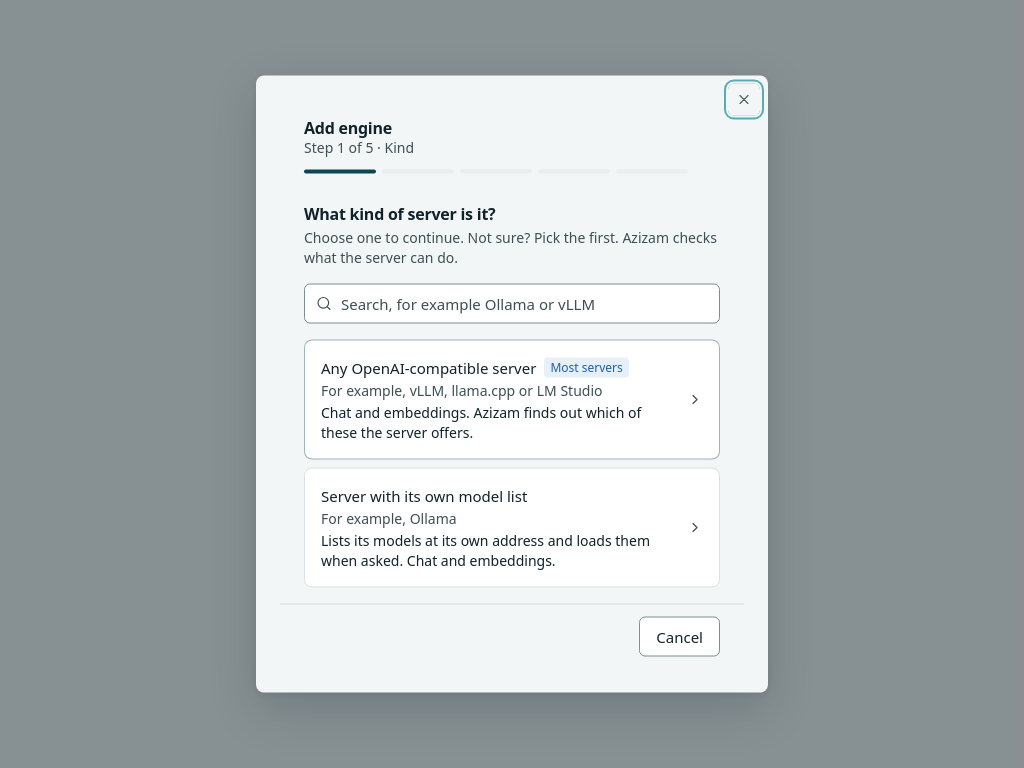
Test: a: kind search › a2: says no kind matches and offers the OpenAI-compatible kind
In the search field named "Search server kinds": (512, 304) [304,284,720,324], type "triton"
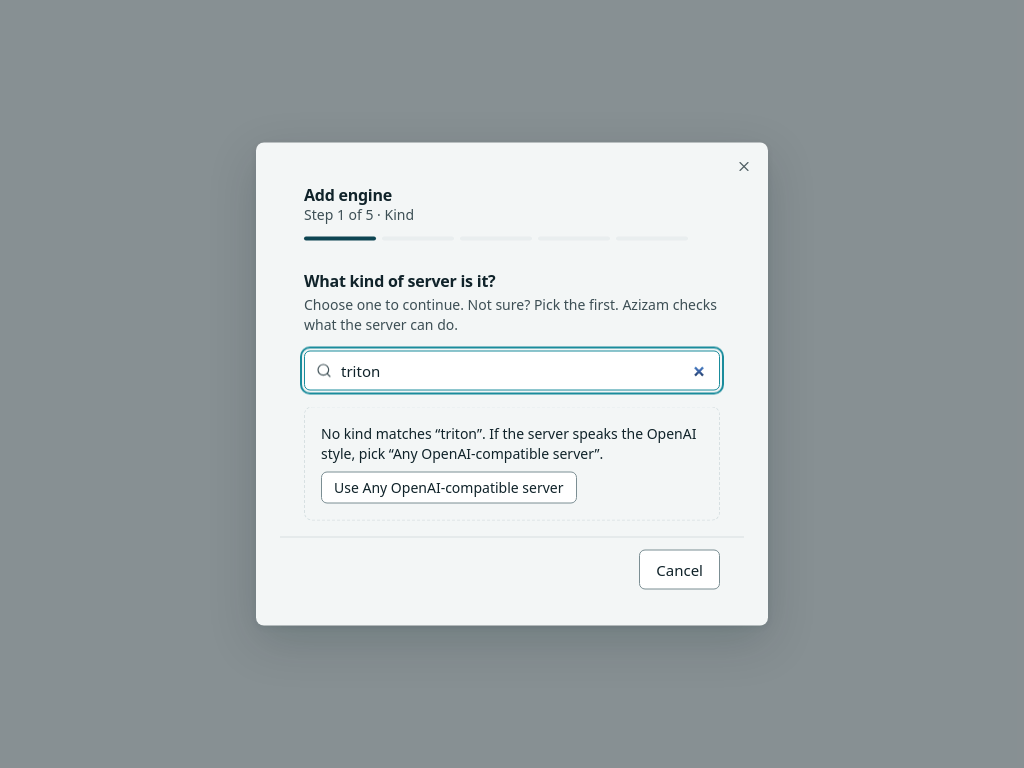
Expected: the text "No kind matches" shows "No kind matches “triton”. If the server speaks the OpenAI style, pick “Any OpenAI-compatible server”.", [304,406,720,520]
Click the button "Use Any OpenAI-compatible server": (449, 488) [321,472,576,504]
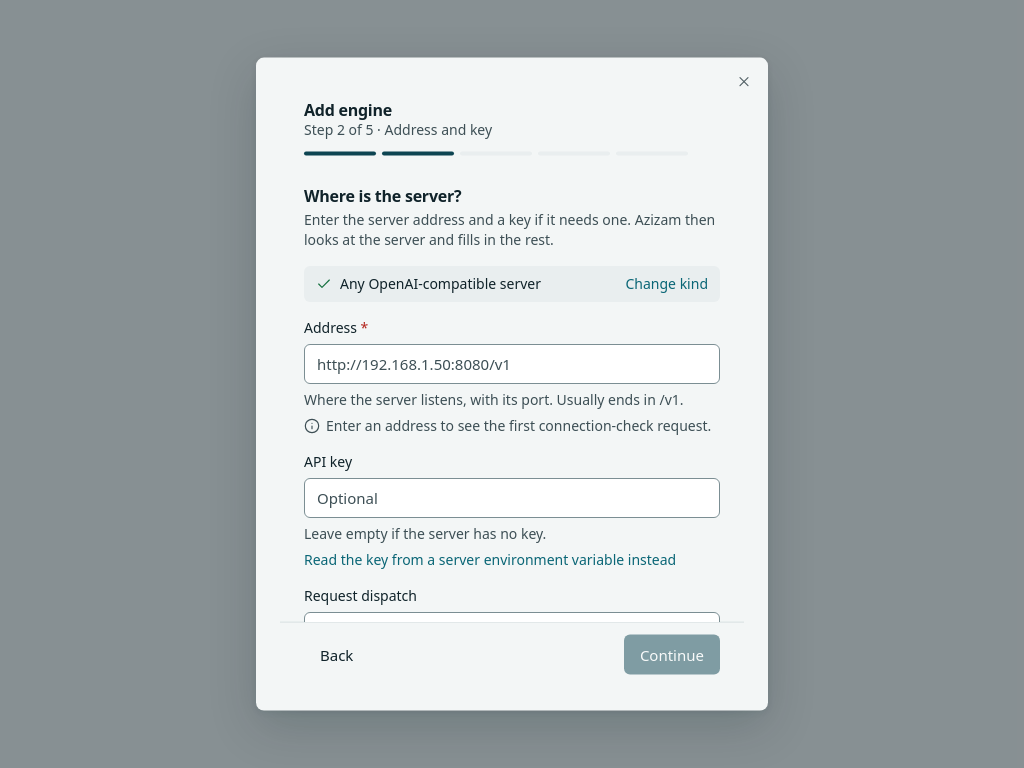
Expected: the text "Step 2 of 5 · Address and key" is shown, [304,120,492,139]
